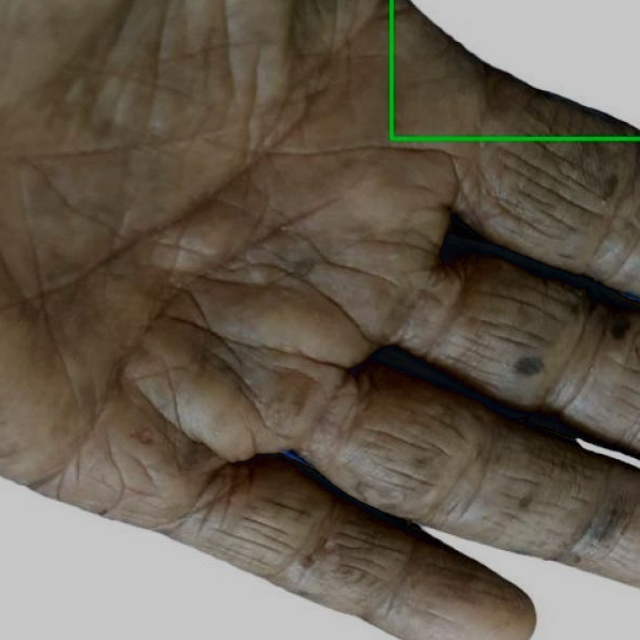Eczema: (391, 0, 639, 139)
